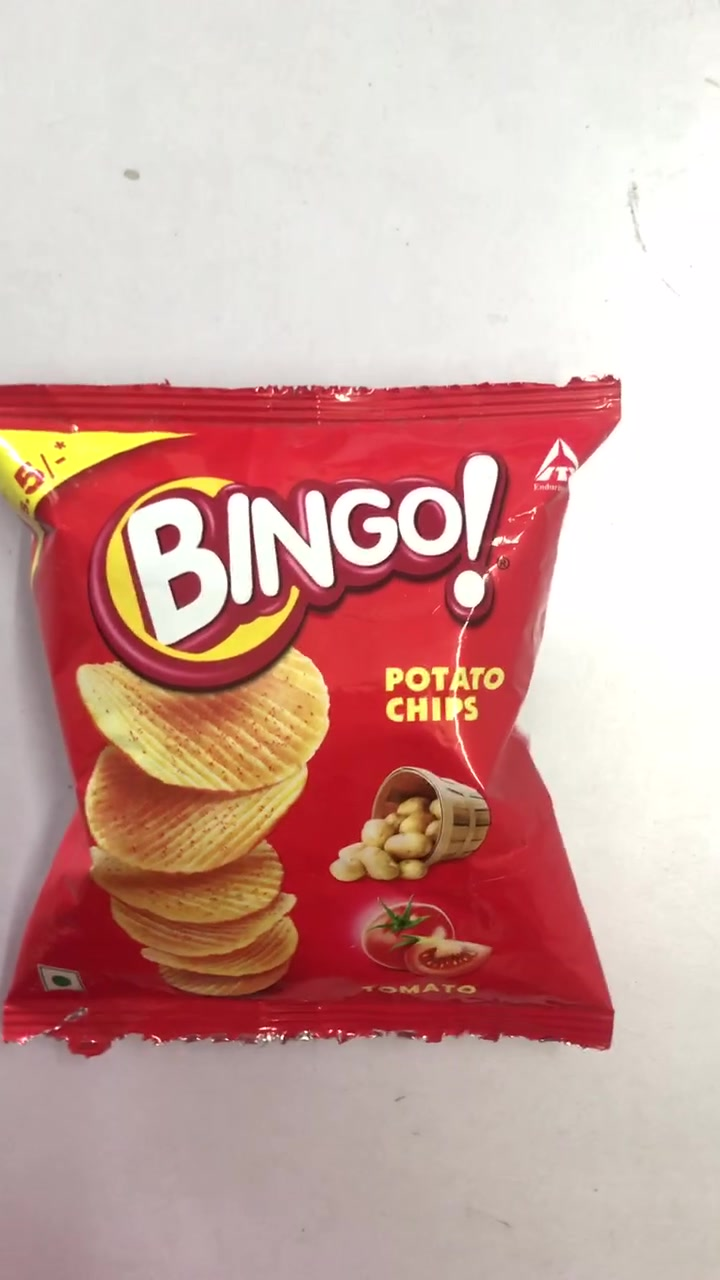Bingo: (6, 384, 614, 1042)
